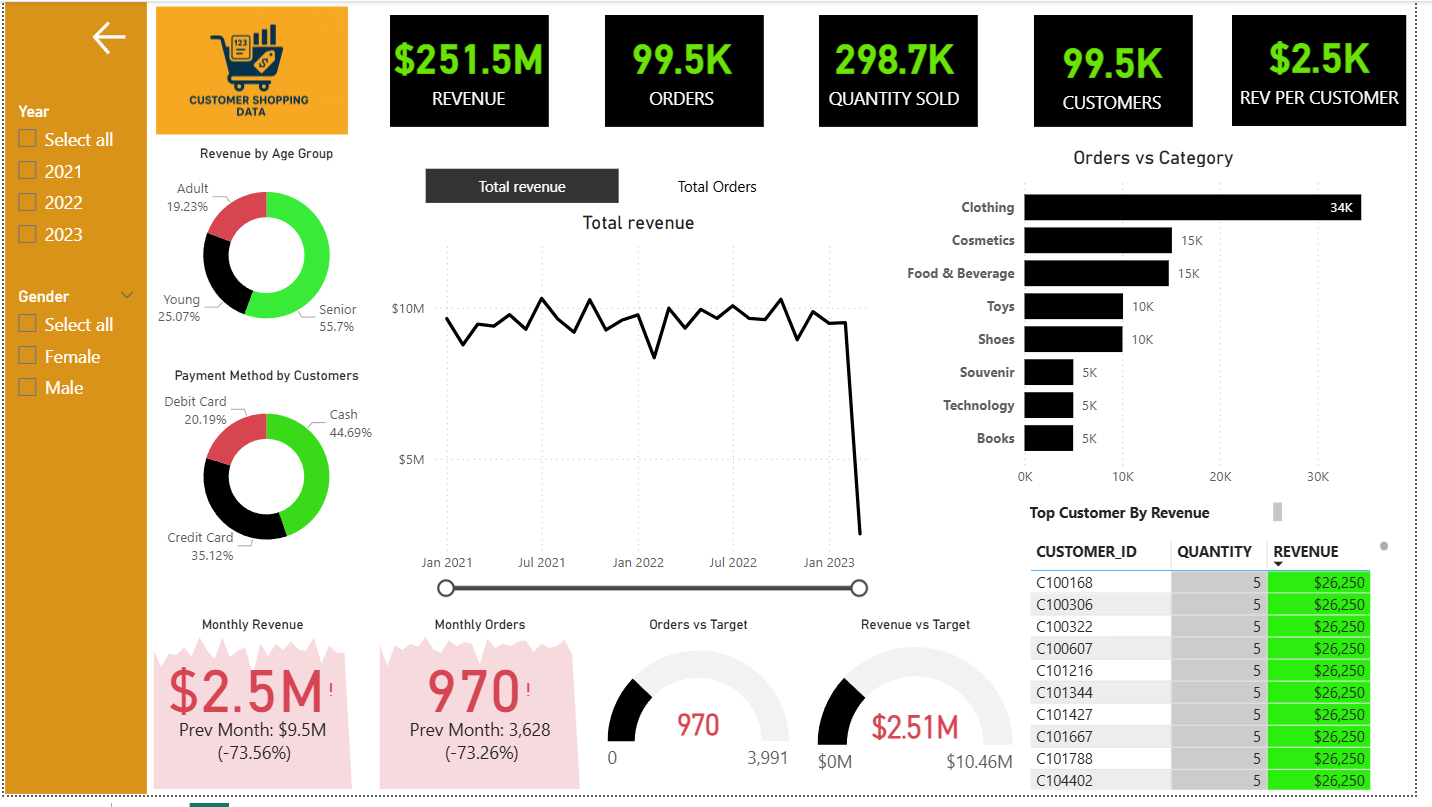

What the dashboard file says about the page in this screenshot:
{"tool":"powerbi","page":{"name":"Page 2","canvas":[1280,720],"ordinal":0},"visuals":[{"type":"clusteredBarChart","title":"Orders vs Category","fields":{"Category":["customer_shopping_data.category"],"Y":["Measure.Total Orders"]},"box":[345.7,380,537.2,193.5],"z":0},{"type":"lineChart","fields":{"Y":["Measure.Total revenue"],"Category":["DateTable.StartOfWeek","DateTable.StartOfMonth","DateTable.Year"]},"box":[345.5,157.8,536.8,213.1],"z":1000},{"type":"shape","box":[350,12.7,144.2,101.6],"z":2000},{"type":"slicer","fields":{"Values":["Parameter.Parameter"]},"box":[361.8,119.7,401.7,31.7],"z":3000},{"type":"shape","box":[0,0,130.6,720],"z":4000},{"type":"donutChart","title":"Revenue by Age Group","fields":{"Y":["Measure.Total revenue"],"Category":["customer_shopping_data.Age Category"]},"box":[130.6,131.5,214.9,185],"z":5000},{"type":"kpi","title":"Monthly Revenue","fields":{"Indicator":["Measure.Total revenue"],"TrendLine":["DateTable.StartOfMonth"],"Goal":["Measure.Previous Month Revenue"]},"box":[130.6,580.4,189.5,139.6],"z":6000},{"type":"kpi","title":"Monthly Orders","fields":{"TrendLine":["DateTable.StartOfMonth"],"Goal":["Measure.Previous Month Orders"],"Indicator":["Measure.Total Orders"]},"box":[335.5,580.4,192.2,139.6],"z":7000},{"type":"tableEx","fields":{"Values":["customer_shopping_data.customer_id","Measure.Total Quantity","Measure.Total revenue"]},"box":[924.9,484.2,336.4,235.8],"z":8000},{"type":"textbox","box":[924.9,449.8,239.4,34.5],"z":9000},{"type":"gauge","title":"Orders vs Target","fields":{"Y":["Measure.Total Orders"],"MaxValue":["Measure.Orders Target"]},"box":[542.3,580.4,175,139.6],"z":10000},{"type":"gauge","title":" Revenue vs Target","fields":{"MaxValue":["Measure.Revenue Target"],"Y":["Measure.Total revenue"]},"box":[732.7,580.4,187.7,139.6],"z":11000},{"type":"donutChart","title":"Payment Method by Customers","fields":{"Category":["customer_shopping_data.payment_method"],"Y":["Measure.Total Customers"]},"box":[130.6,332.8,214.9,184.1],"z":12000},{"type":"slicer","fields":{"Values":["DateTable.Year"]},"box":[0,87.1,130.6,160.5],"z":14000},{"type":"slicer","fields":{"Values":["customer_shopping_data.gender"]},"box":[0,254.8,130.6,135.1],"z":15000},{"type":"image","box":[107.9,0,234.9,126],"z":16000},{"type":"shape","box":[544.5,12.7,144.2,101.6],"z":17000},{"type":"shape","box":[739,12.7,144.2,101.6],"z":18000},{"type":"shape","box":[933.6,12.7,144.2,101.6],"z":19000},{"type":"shape","box":[1113.7,13.1,158.2,100.8],"z":20000},{"type":"card","fields":{"Values":["Measure.Total Customers"]},"box":[903.2,7.3,204,112.4],"z":21000},{"type":"card","fields":{"Values":["Measure.Total Quantity"]},"box":[705.5,3.6,204,112.4],"z":22000},{"type":"card","fields":{"Values":["Measure.Total Orders"]},"box":[512.3,3.6,204.9,112.4],"z":23000},{"type":"card","fields":{"Values":["Measure.Total revenue"]},"box":[321.9,3.6,199.5,112.4],"z":24000},{"type":"card","fields":{"Values":["Measure.Revenue per Customer"]},"box":[1113.7,3,158.2,111.9],"z":25000},{"type":"clusteredColumnChart","title":"Revenue Generated By Shopping Mall","fields":{"Category":["customer_shopping_data.shopping_mall"],"Y":["Measure.Total revenue"]},"box":[883.2,119.7,397.2,313.8],"z":26000},{"type":"actionButton","box":[88,12.7,42.6,34.5],"z":26001}]}

Visuals, with their boxes on the page's 1280x720 design canvas (x1, y1, x2, y2). These are canvas units, not pixel positions in the 1432x807 screenshot, which may show the page scaled, cropped or inside an application window:
"Orders vs Category" clusteredBarChart: (346,380,883,574)
lineChart - Measure.Total revenue x DateTable.StartOfWeek: (346,158,882,371)
shape: (350,13,494,114)
slicer - Parameter.Parameter: (362,120,764,151)
shape: (0,0,131,720)
"Revenue by Age Group" donutChart: (131,132,346,316)
"Monthly Revenue" kpi: (131,580,320,720)
"Monthly Orders" kpi: (336,580,528,720)
tableEx - customer_shopping_data.customer_id x Measure.Total Quantity: (925,484,1261,720)
textbox: (925,450,1164,484)
"Orders vs Target" gauge: (542,580,717,720)
" Revenue vs Target" gauge: (733,580,920,720)
"Payment Method by Customers" donutChart: (131,333,346,517)
slicer - DateTable.Year: (0,87,131,248)
slicer - customer_shopping_data.gender: (0,255,131,390)
image: (108,0,343,126)
shape: (544,13,689,114)
shape: (739,13,883,114)
shape: (934,13,1078,114)
shape: (1114,13,1272,114)
card - Measure.Total Customers: (903,7,1107,120)
card - Measure.Total Quantity: (706,4,910,116)
card - Measure.Total Orders: (512,4,717,116)
card - Measure.Total revenue: (322,4,521,116)
card - Measure.Revenue per Customer: (1114,3,1272,115)
"Revenue Generated By Shopping Mall" clusteredColumnChart: (883,120,1280,434)
actionButton: (88,13,131,47)
